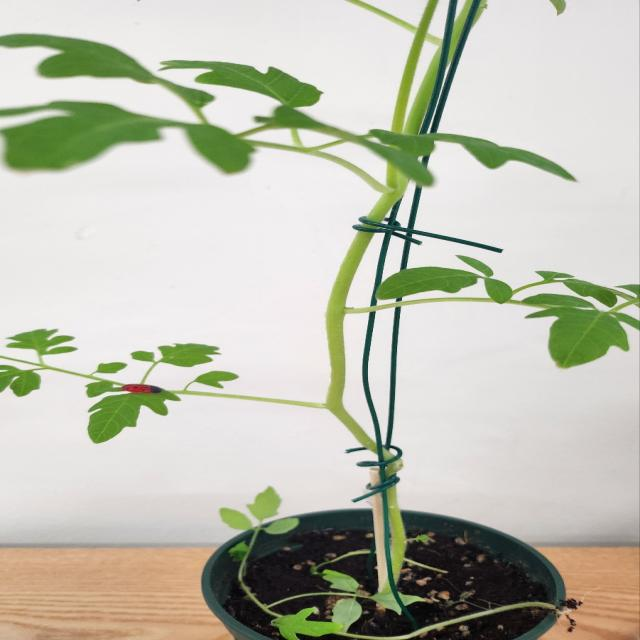bug: (116, 374, 166, 406)
